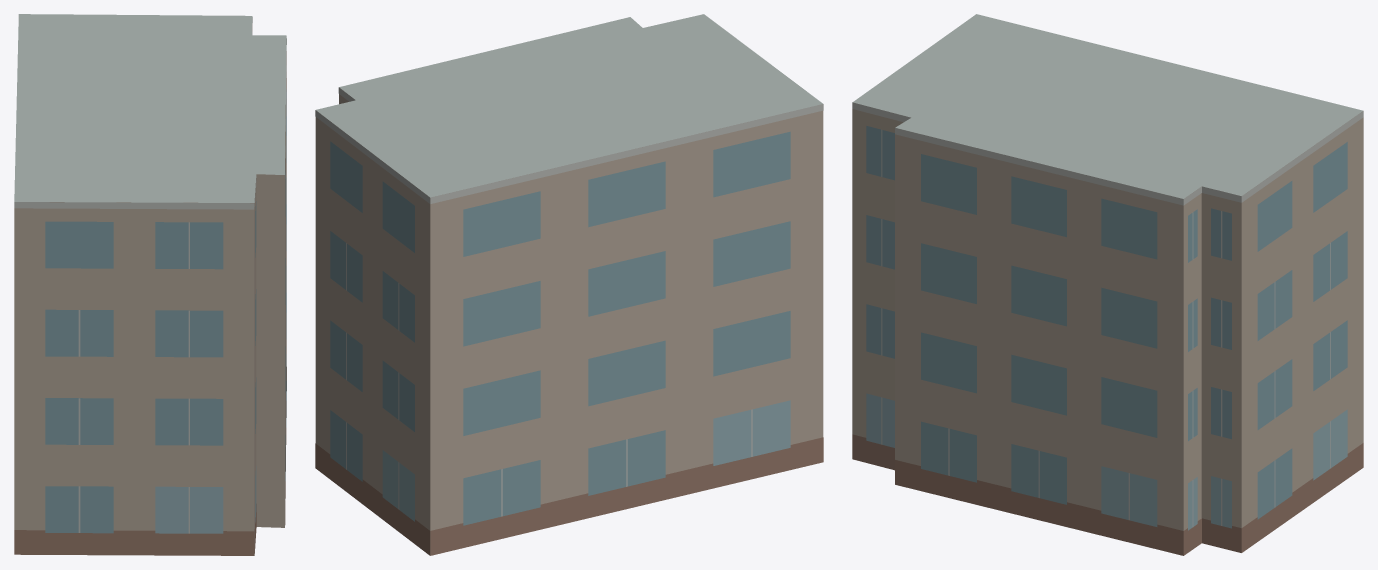
Rendered from survey-upis-32951320.glb.
3 renders of one model, left to right at view 1: azimuth 30°, elevation 25°; view 2: azimuth 150°, elevation 25°; view 3: azimuth 270°, elevation 25°, orthographic.
Parts seen in each view (by area): view 1: survey-upis-32951320.tmp; view 2: survey-upis-32951320.tmp; view 3: survey-upis-32951320.tmp.
Part boxes in pixels (x1,y1,x2,y2): survey-upis-32951320.tmp: [14, 14, 286, 555]; survey-upis-32951320.tmp: [315, 14, 823, 555]; survey-upis-32951320.tmp: [852, 14, 1363, 555].
Size of the model in its own units: 14.69 by 13.2 by 17.14.
